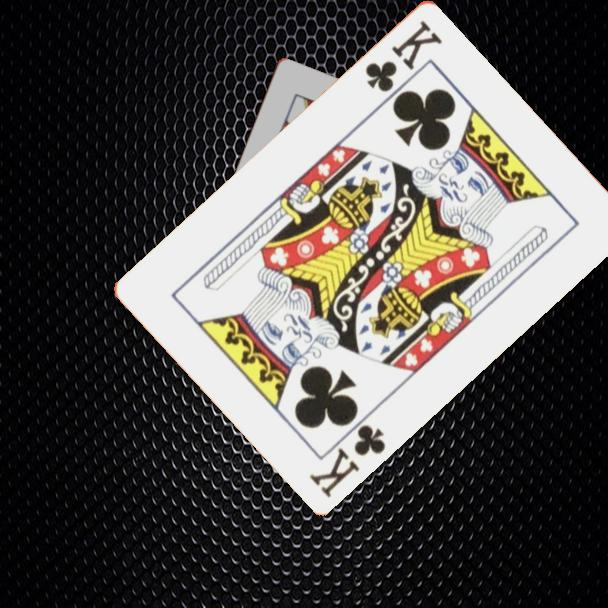c13: (305, 420, 389, 501), (361, 16, 445, 95)
